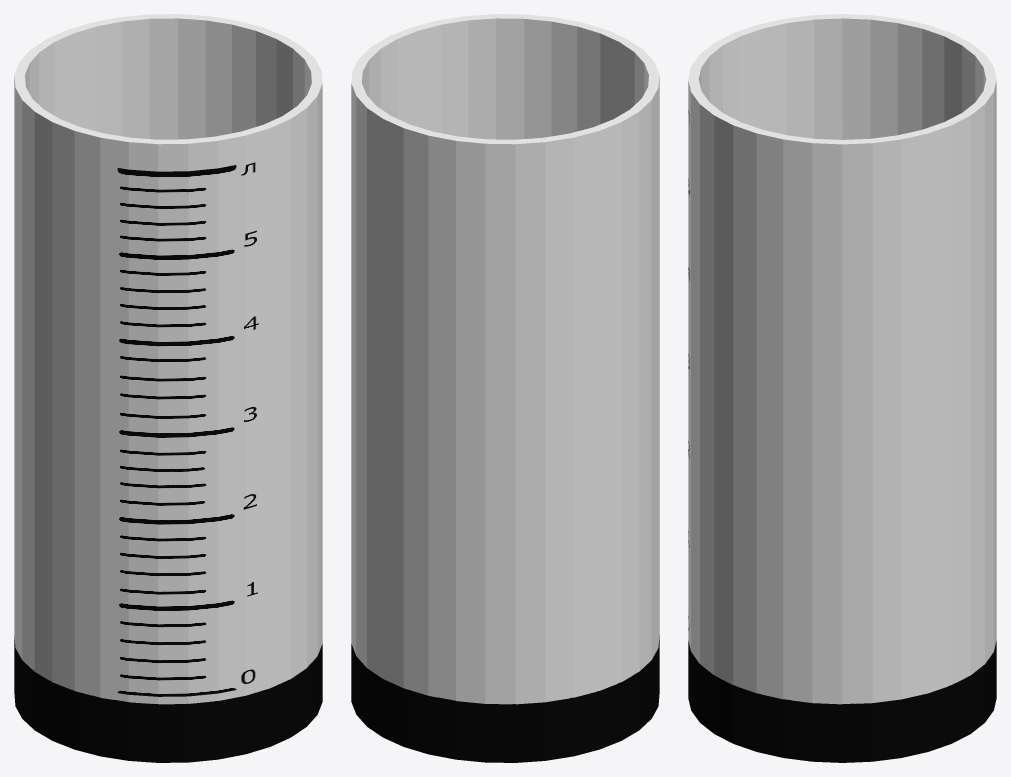
File: measuringCup.fbx
3 views of the same model, side by side, from view 1: azimuth 30°, elevation 25°; view 2: azimuth 150°, elevation 25°; view 3: azimuth 270°, elevation 25° (orthographic).
Parts seen in each view (by area): view 1: Мерный стакан 5л.001, Цилиндр.007; view 2: Мерный стакан 5л.001, Цилиндр.007; view 3: Мерный стакан 5л.001, Цилиндр.007.
Part boxes in pixels (left/top/right/bottom): Мерный стакан 5л.001: left=14, top=14, right=322, bottom=704; Цилиндр.007: left=14, top=636, right=322, bottom=762; Мерный стакан 5л.001: left=351, top=14, right=659, bottom=704; Цилиндр.007: left=351, top=635, right=659, bottom=762; Мерный стакан 5л.001: left=688, top=14, right=996, bottom=704; Цилиндр.007: left=688, top=641, right=996, bottom=762.
Bounding box in the file's own units: 1.58 × 3.49 × 1.58.
Materials: 2 (1 with a texture image).
